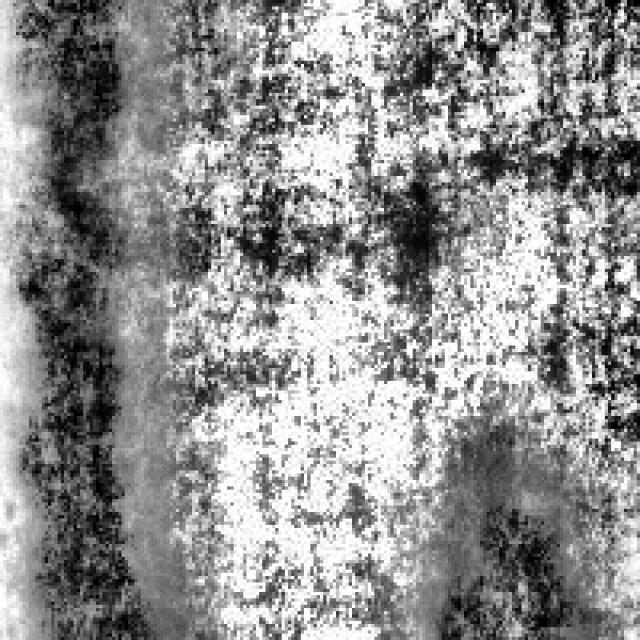Scratches: (4, 141, 134, 637), (0, 0, 157, 176), (429, 474, 560, 636)
